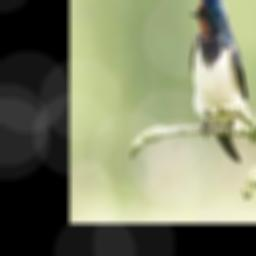Swallow: (189, 0, 246, 162)
